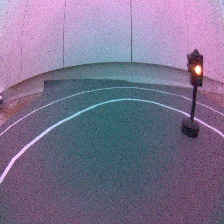amber: (179, 48, 208, 139)
